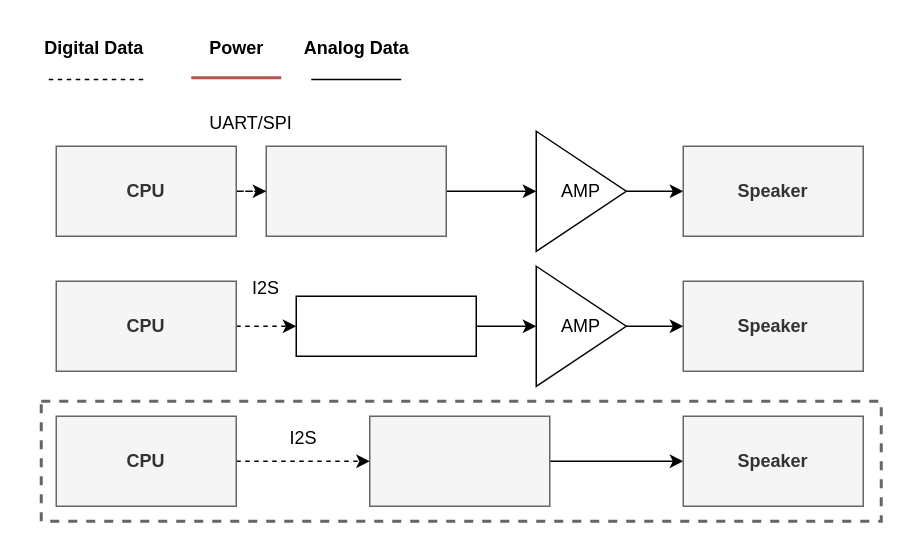
The diagram is 908 pixels wide and 548 high, and some of its shapes have lost their labels. Each missing label, with the centre of its shape:
I2S DAC (HAT): point (385, 325)
Integrated Amp: point (459, 460)
MCU (STM32/ESP32): point (355, 190)
